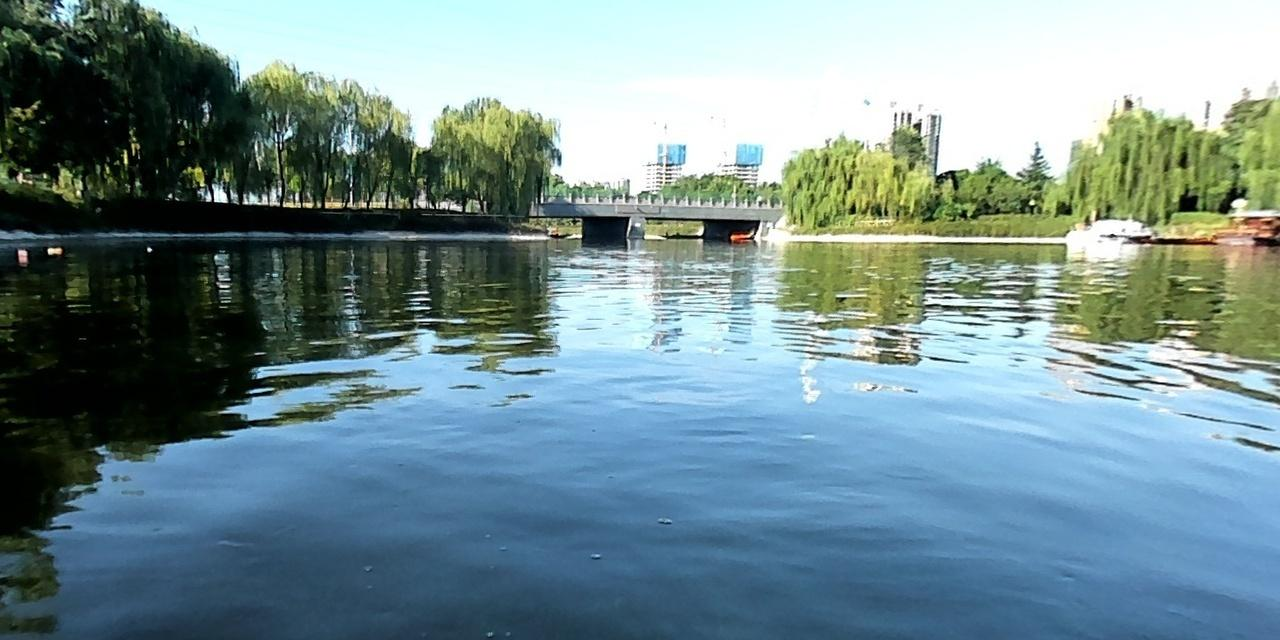bottle: (41, 244, 65, 254), (14, 245, 30, 260)
